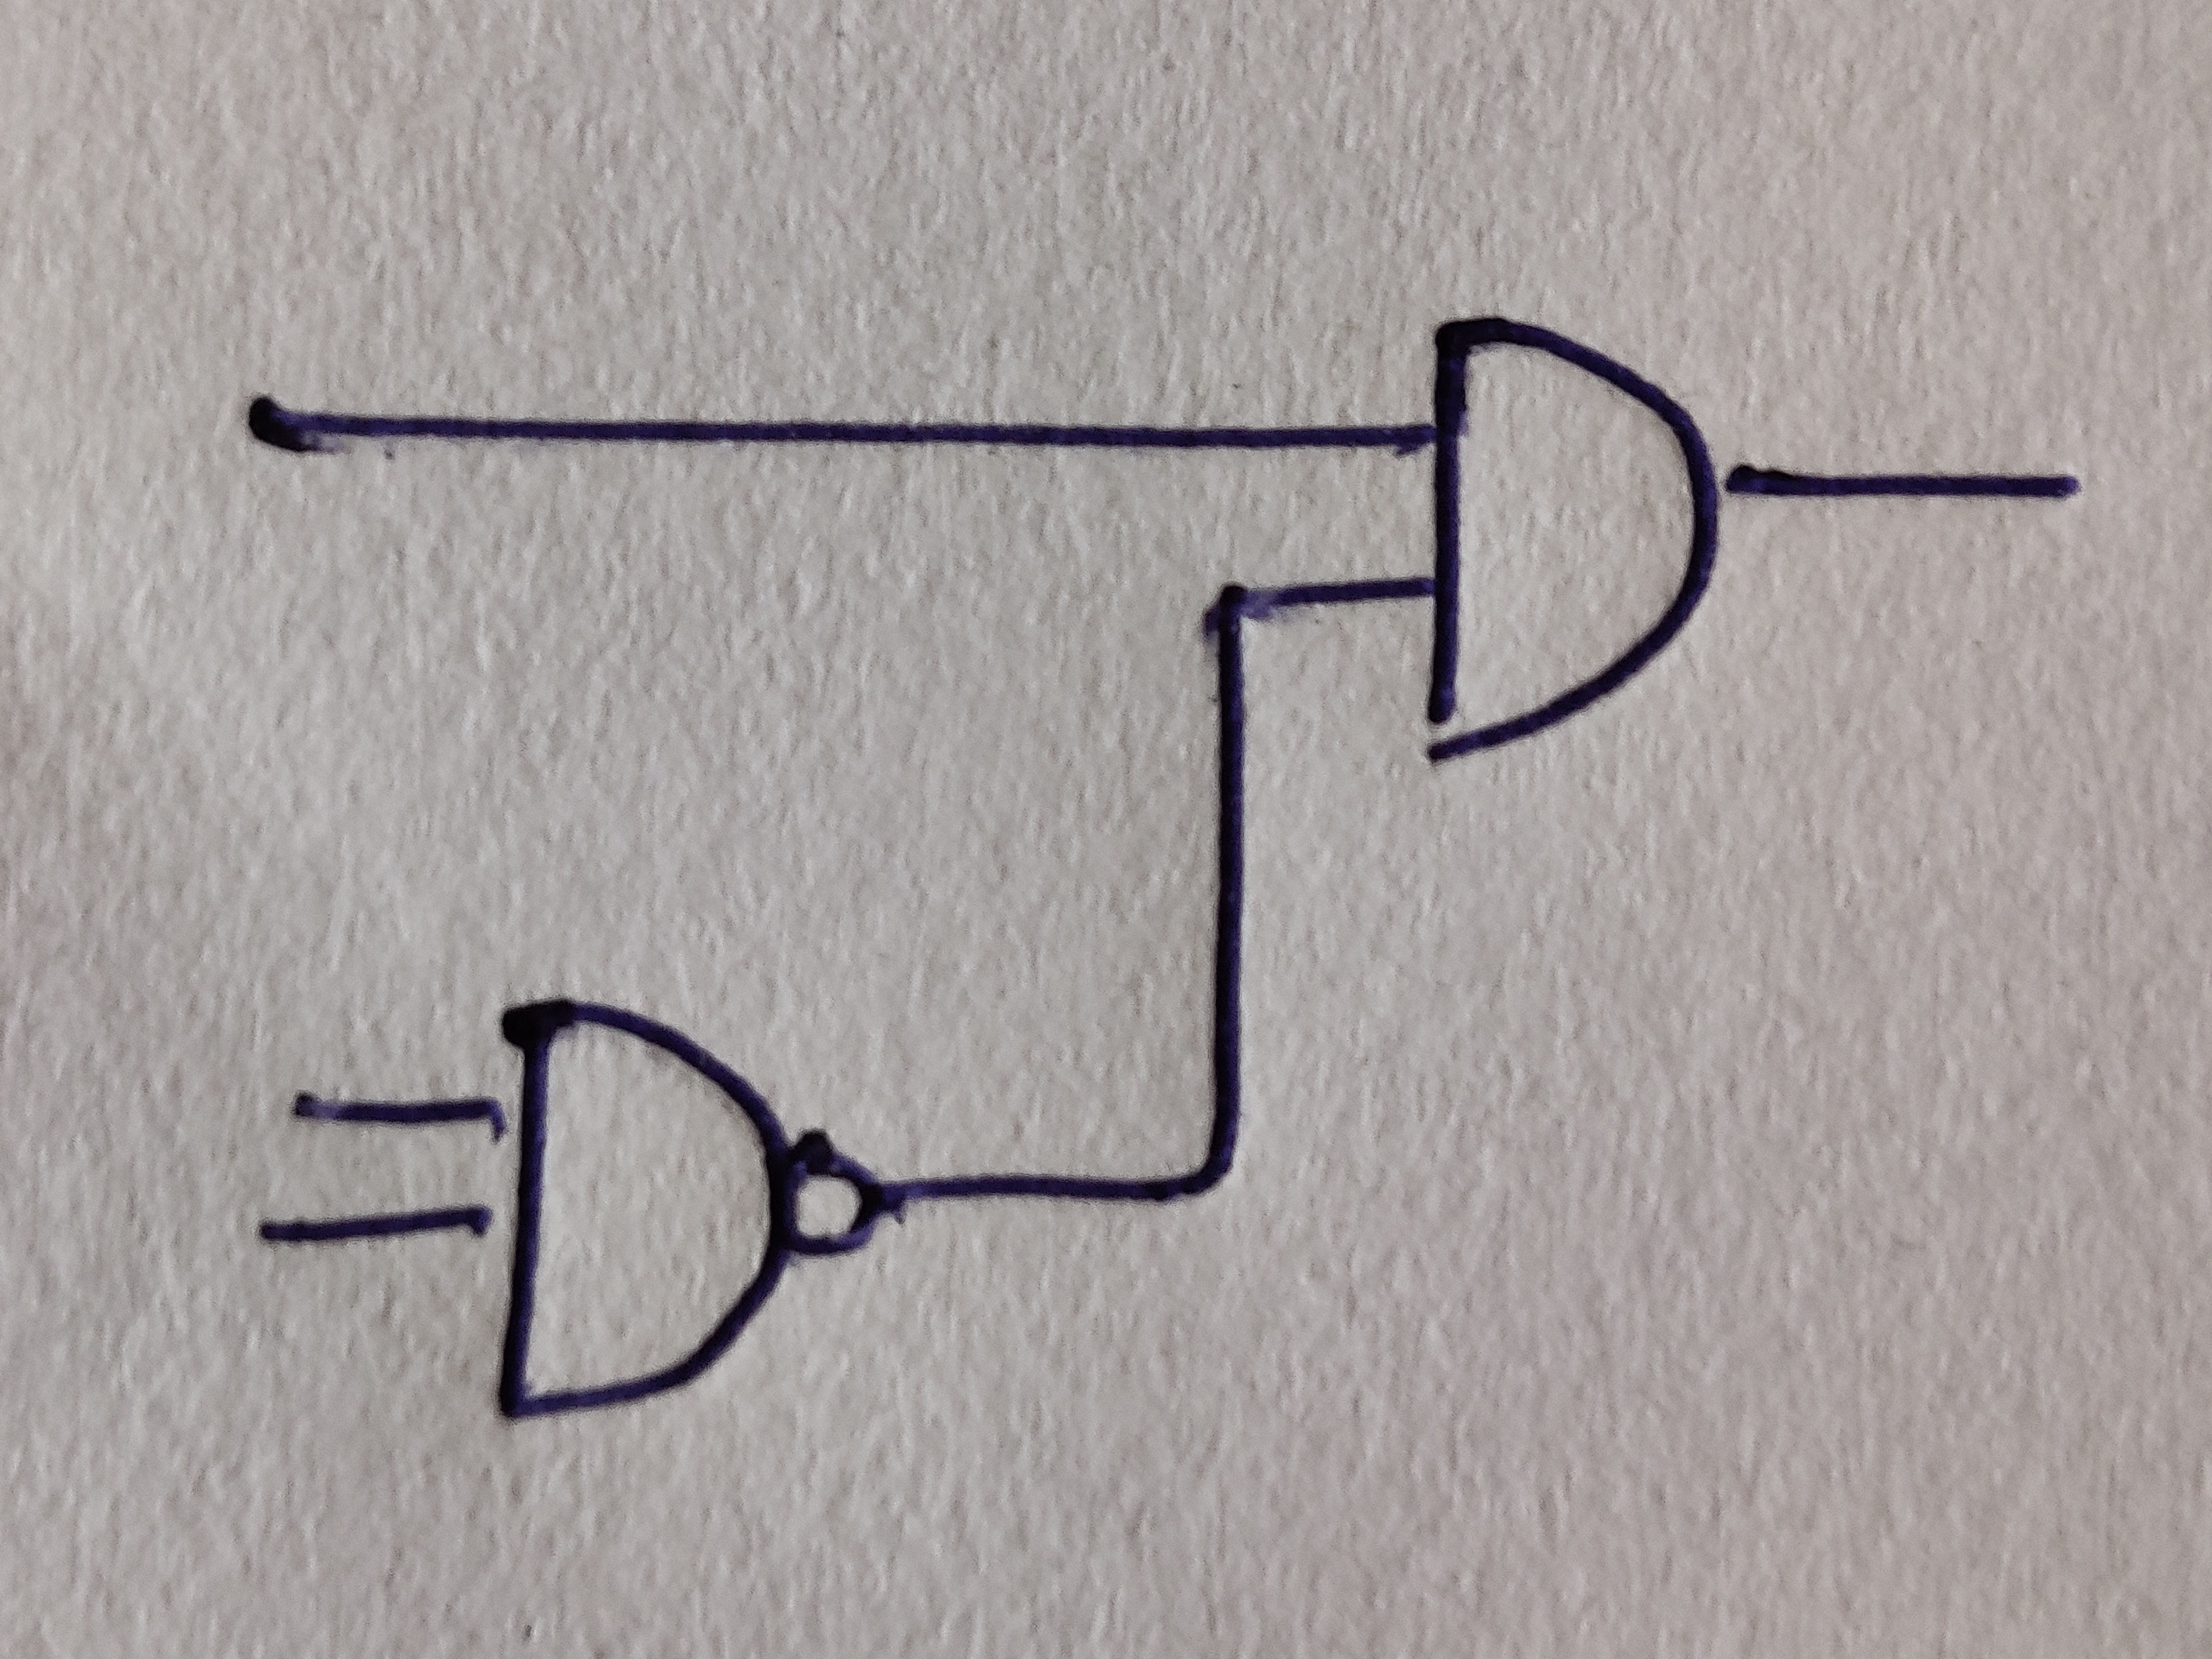and: (1428, 319, 1719, 763), (500, 999, 792, 1417)
not: (789, 1127, 880, 1258)
